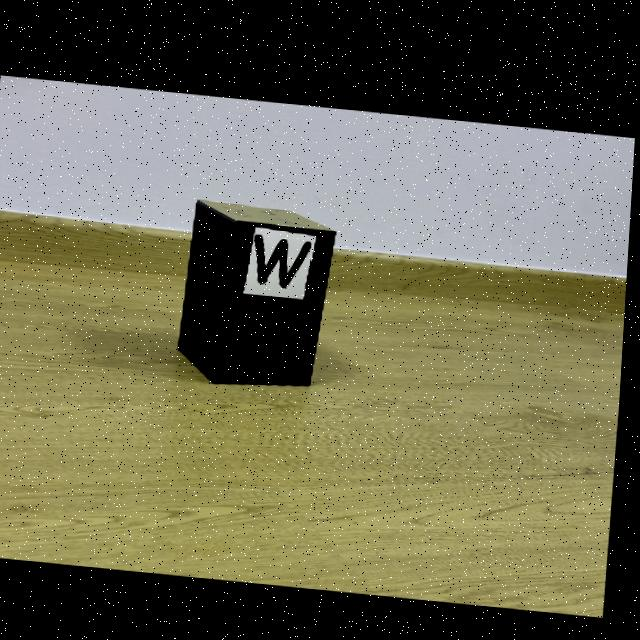W: (256, 230, 315, 282)
